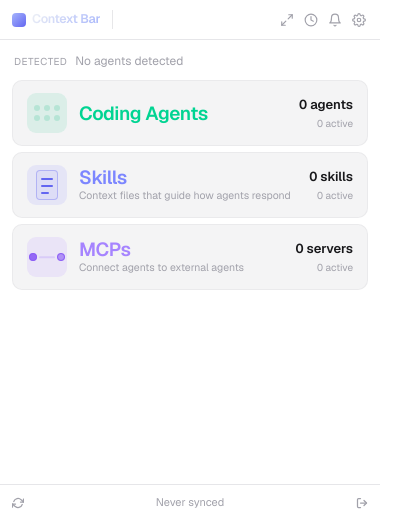
App — navigation › clicking notifications button shows NotificationsPanel
The image size is (397, 526).
Click the button named "Notifications": point(335, 20) [324,8,346,30]
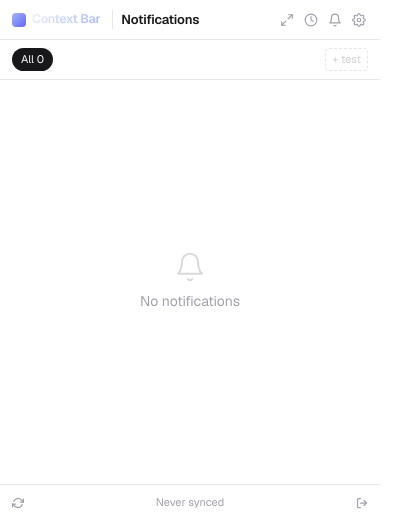
Expected: the text "Notifications" is shown, [121,10,199,29]
